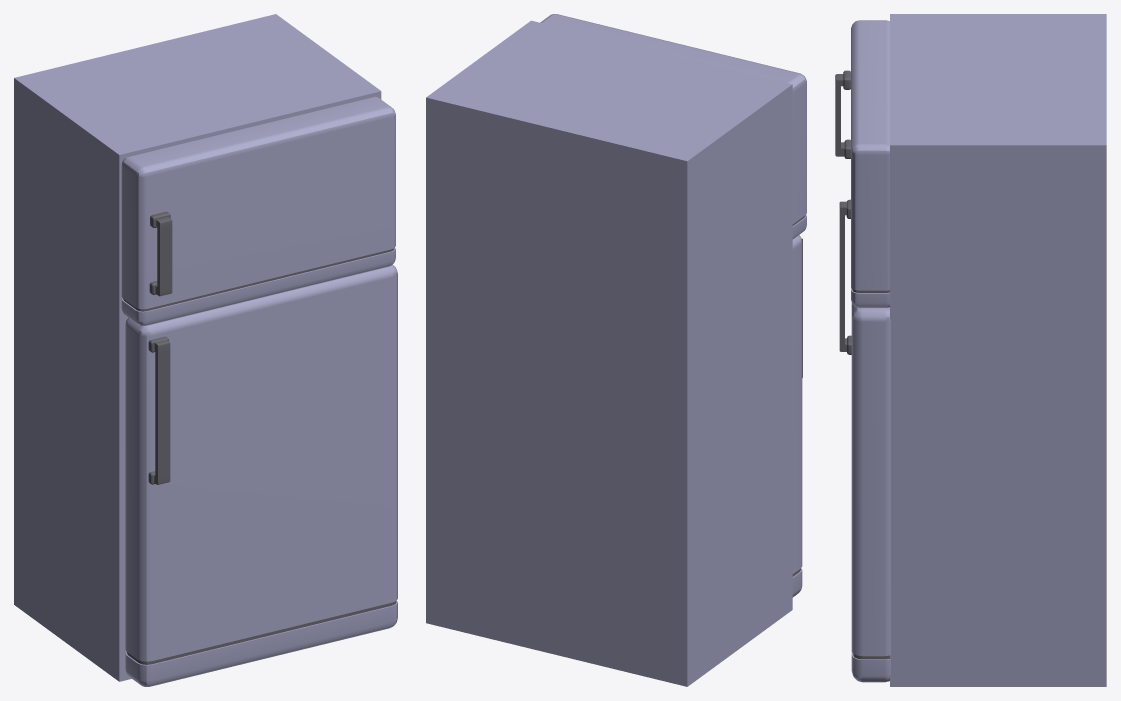
File: refrigerator.fbx
The picture shows the model from 3 angles, left to right: view 1: azimuth 30°, elevation 25°; view 2: azimuth 150°, elevation 25°; view 3: azimuth 270°, elevation 25°; orthographic projection. The views are drawn at different scales.
Parts seen in each view (by area): view 1: pCube14, pCube26, pCube13, pCube23, pCube24; view 2: pCube26, pCube13, pCube14; view 3: pCube26, pCube14, pCube13, pCube23, pCube24.
Boxes of the visible parts, <box> form: pCube14: <box>125,265,397,686</box>; pCube26: <box>14,14,381,681</box>; pCube13: <box>121,96,395,325</box>; pCube23: <box>154,339,170,484</box>; pCube24: <box>155,217,172,296</box>; pCube26: <box>426,20,792,686</box>; pCube13: <box>540,14,806,239</box>; pCube14: <box>792,235,802,597</box>; pCube26: <box>890,14,1106,686</box>; pCube14: <box>851,303,890,682</box>; pCube13: <box>851,20,889,307</box>; pCube23: <box>839,201,847,351</box>; pCube24: <box>835,74,844,156</box>.
Bounding box in the file's own units: 4.95 × 9.45 × 4.29.
